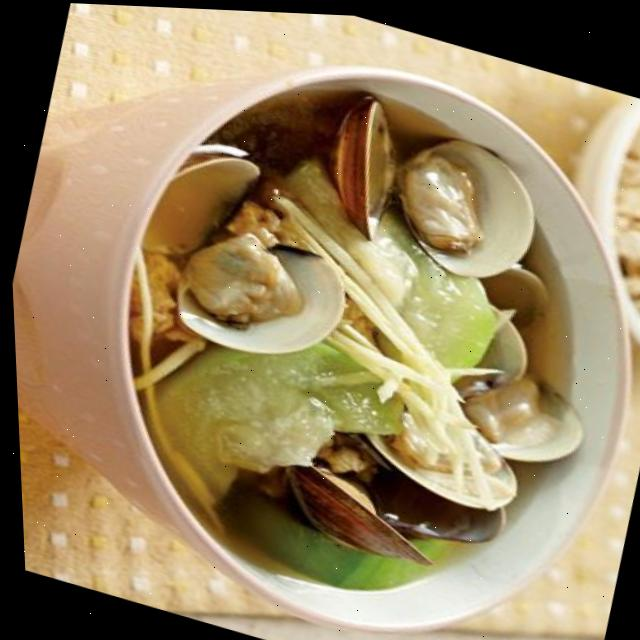Wet: (102, 68, 609, 591)
